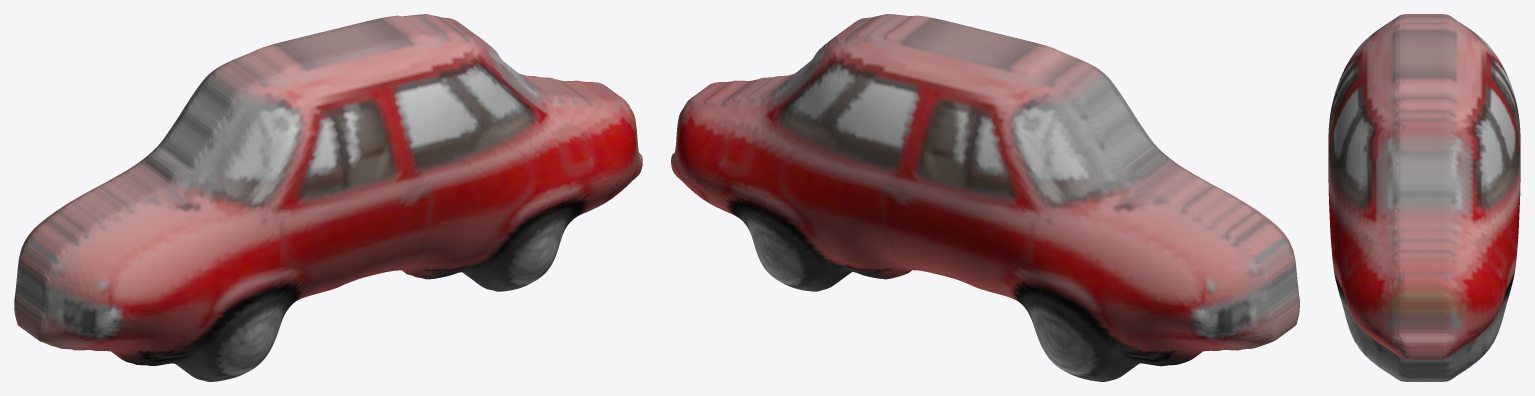
The picture shows the model from 3 angles, left to right: view 1: azimuth 30°, elevation 25°; view 2: azimuth 150°, elevation 25°; view 3: azimuth 270°, elevation 25°; orthographic projection. The views are drawn at different scales.
Parts seen in each view (by area): view 1: geometry_0; view 2: geometry_0; view 3: geometry_0.
Boxes of the visible parts, x1,y1,x2,y2 form: geometry_0: [14, 14, 642, 381]; geometry_0: [671, 14, 1299, 381]; geometry_0: [1328, 14, 1520, 381].
Size of the model in its own units: 1 by 0.4691 by 0.3031.
